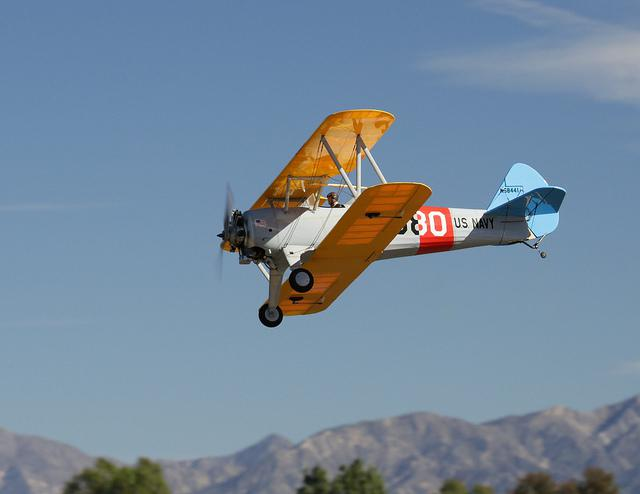Airplane: (216, 164, 566, 327)
